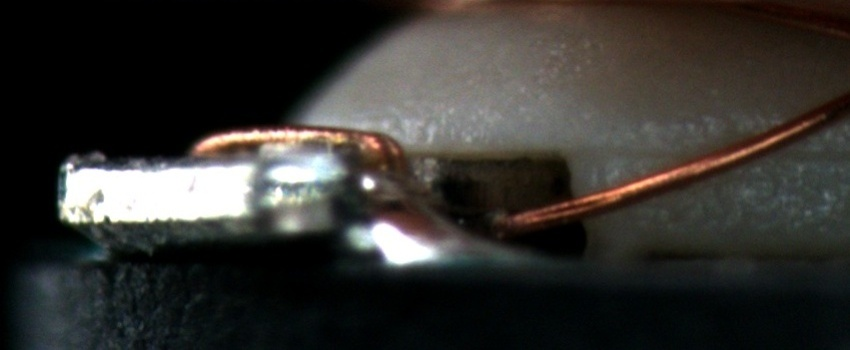DL: (593, 119, 849, 183)
TE: (183, 119, 408, 189)
